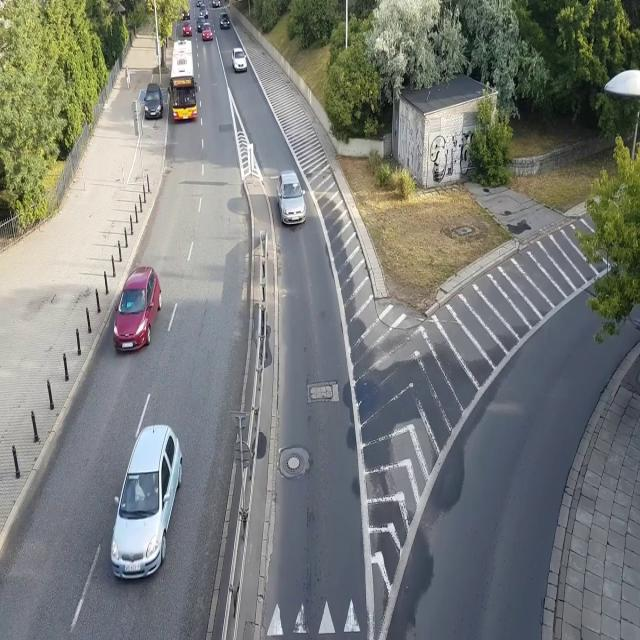bus: (167, 39, 198, 122)
car: (108, 421, 184, 583), (112, 267, 164, 354), (276, 168, 307, 227), (144, 82, 163, 120), (231, 47, 248, 73), (218, 12, 230, 30), (202, 22, 213, 41), (182, 19, 192, 38), (196, 15, 206, 32), (181, 5, 191, 19), (199, 6, 208, 18), (212, 0, 221, 8), (196, 0, 204, 8)
